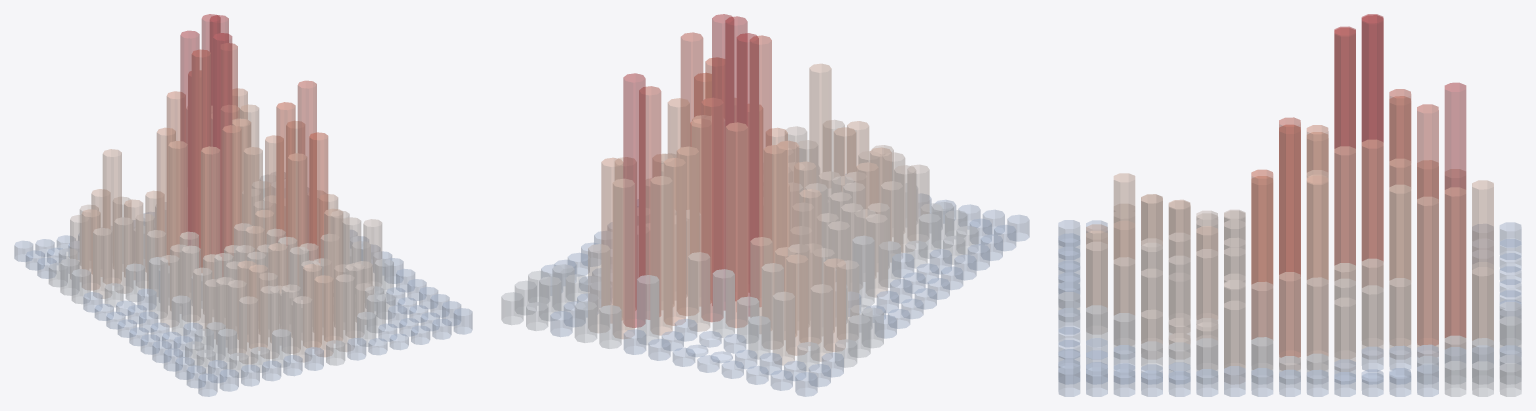
The model's file is 3d_col.fbx.
3 renders of one model, left to right at view 1: azimuth 30°, elevation 25°; view 2: azimuth 150°, elevation 25°; view 3: azimuth 270°, elevation 25°, orthographic. The views are drawn at different scales.
Parts seen in each view (by area): view 1: 物件_4, 物件_3, 物件_5, 物件_108, 物件_2, 物件_109, 物件_67, 物件_188, 物件_98, 物件_76, 物件_121, 物件_99 (+99 smaller); view 2: 物件_3, 物件_2, 物件_1, 物件_63, 物件_64, 物件_5, 物件_48, 物件_62, 物件_49, 物件_36, 物件_23, 物件_67 (+96 smaller); view 3: 物件_1, 物件_2, 物件_48, 物件_108, 物件_4, 物件_95, 物件_121, 物件_35, 物件_61, 物件_47, 物件_23, 物件_75 (+104 smaller).
Part boxes in pixels (x1=…): 物件_4: x1=213, y1=33, x2=232, y2=256; 物件_3: x1=180, y1=30, x2=199, y2=246; 物件_5: x1=191, y1=49, x2=210, y2=267; 物件_108: x1=297, y1=80, x2=316, y2=249; 物件_2: x1=201, y1=14, x2=220, y2=253; 物件_109: x1=276, y1=102, x2=295, y2=245; 物件_67: x1=102, y1=149, x2=121, y2=284; 物件_188: x1=324, y1=208, x2=343, y2=343; 物件_98: x1=222, y1=125, x2=241, y2=276; 物件_76: x1=156, y1=127, x2=175, y2=259; 物件_121: x1=309, y1=132, x2=328, y2=262; 物件_99: x1=201, y1=146, x2=220, y2=278; 物件_3: x1=736, y1=33, x2=758, y2=316; 物件_2: x1=712, y1=14, x2=734, y2=310; 物件_1: x1=623, y1=73, x2=645, y2=327; 物件_63: x1=701, y1=97, x2=723, y2=322; 物件_64: x1=725, y1=122, x2=748, y2=328; 物件_5: x1=750, y1=35, x2=771, y2=306; 物件_48: x1=639, y1=86, x2=661, y2=319; 物件_62: x1=676, y1=146, x2=699, y2=316; 物件_49: x1=663, y1=157, x2=685, y2=325; 物件_36: x1=650, y1=176, x2=672, y2=335; 物件_23: x1=612, y1=178, x2=634, y2=339; 物件_67: x1=799, y1=189, x2=821, y2=345; 物件_1: x1=1444, y1=82, x2=1466, y2=337; 物件_2: x1=1361, y1=14, x2=1383, y2=260; 物件_48: x1=1417, y1=104, x2=1438, y2=345; 物件_108: x1=1279, y1=117, x2=1300, y2=357; 物件_4: x1=1334, y1=26, x2=1355, y2=264; 物件_95: x1=1306, y1=175, x2=1328, y2=355; 物件_121: x1=1251, y1=169, x2=1273, y2=339; 物件_35: x1=1444, y1=187, x2=1466, y2=348; 物件_61: x1=1389, y1=184, x2=1411, y2=345; 物件_47: x1=1417, y1=196, x2=1438, y2=357; 物件_23: x1=1472, y1=180, x2=1493, y2=340; 物件_75: x1=1361, y1=139, x2=1383, y2=287.
Size of the model in its own units: 5517 by 6813 by 4874.
